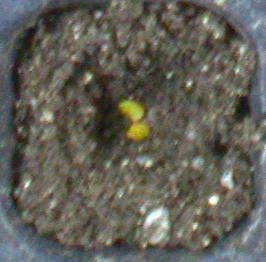chilli seed: (117, 99, 145, 121), (126, 122, 149, 139)
